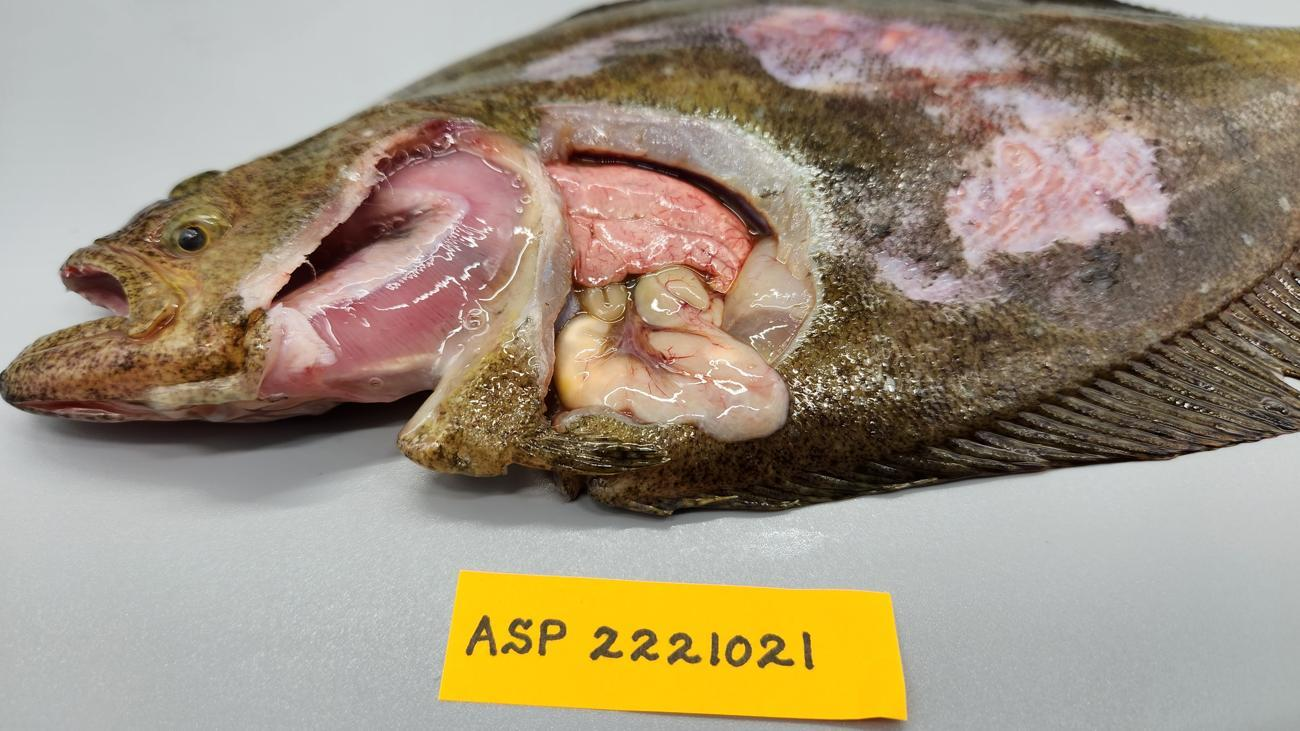SPGIP: (313, 151, 531, 370)
